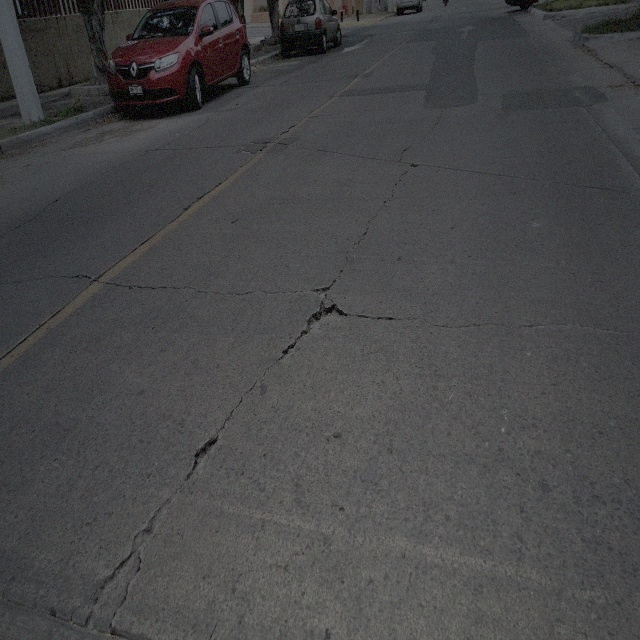pothole: (287, 297, 347, 356), (191, 432, 218, 474), (310, 284, 332, 302)
